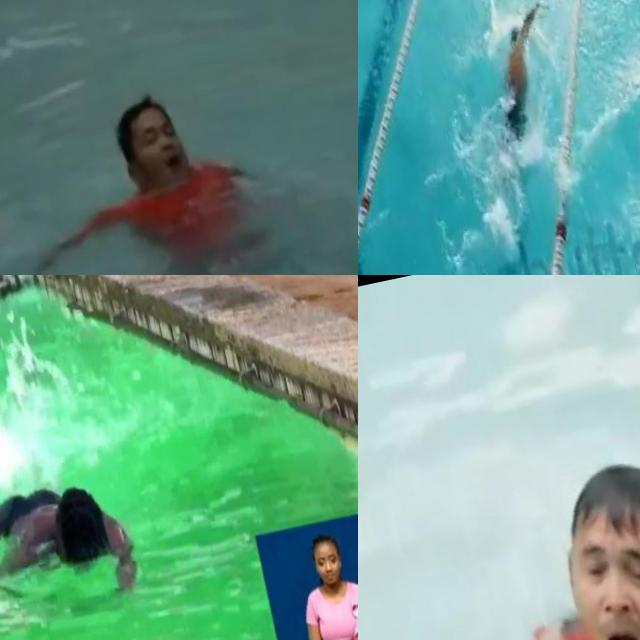drowning: (358, 359, 640, 640), (66, 63, 289, 275)
swimming: (0, 347, 160, 640), (464, 0, 577, 190)
